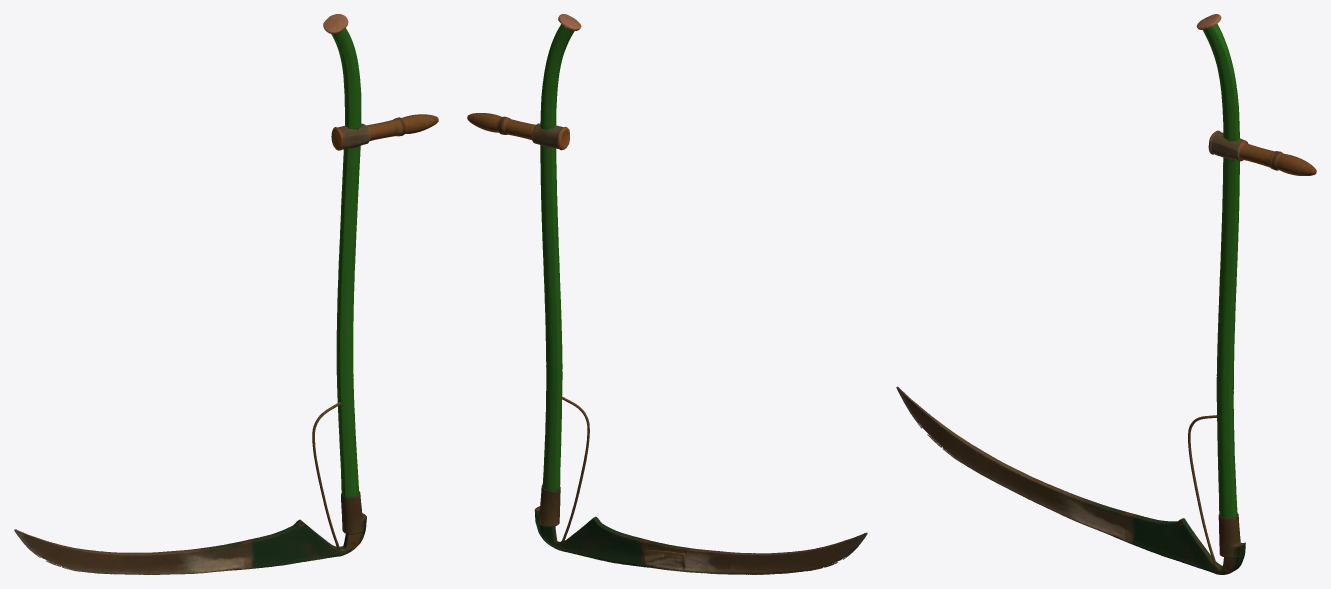
File: sense.glb
3 views of the same model, side by side, from view 1: azimuth 30°, elevation 25°; view 2: azimuth 150°, elevation 25°; view 3: azimuth 330°, elevation 25° (orthographic). The views are drawn at different scales.
Visible parts, largest first — view 1: geometry_0; view 2: geometry_0; view 3: geometry_0.
Part boxes in pixels (bbox=[...]): geometry_0: bbox=[14, 14, 438, 574]; geometry_0: bbox=[467, 14, 867, 574]; geometry_0: bbox=[896, 14, 1316, 574].
Size of the model in its own units: 0.8025 by 1 by 0.0562.
Materials: 1 (1 with a texture image).
